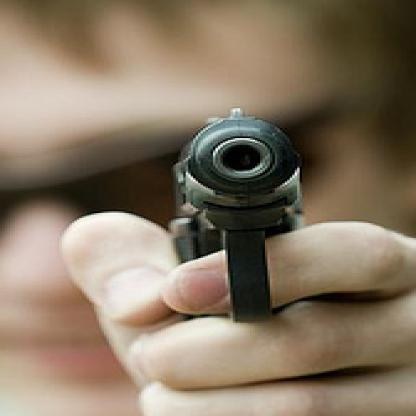gun: (159, 103, 344, 351)
